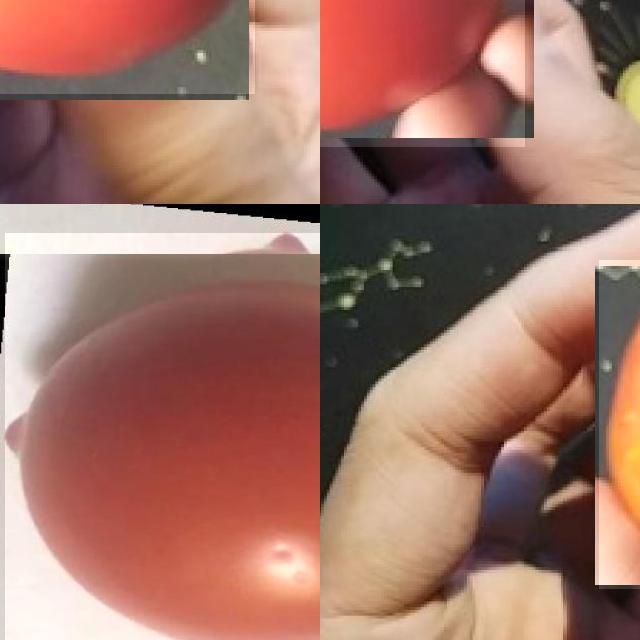Fresh Tomato: (5, 233, 320, 640), (320, 0, 525, 146), (0, 0, 255, 94)
